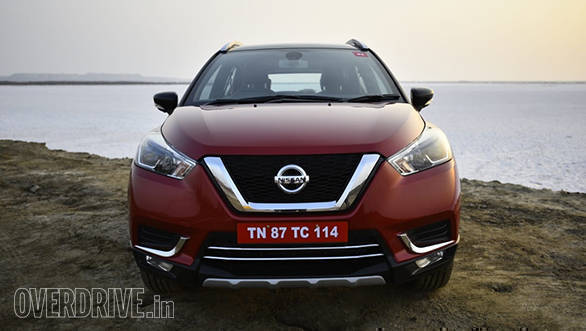number_plate: (233, 219, 352, 246)
